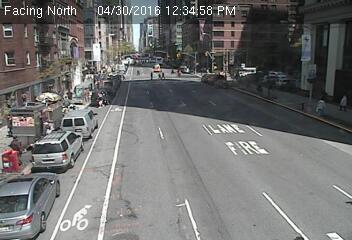neg: (119, 105, 152, 149), (85, 85, 111, 120), (222, 97, 243, 124), (170, 28, 187, 51), (216, 49, 231, 69), (269, 55, 282, 72), (125, 37, 137, 54), (234, 10, 246, 25)
pos: (2, 132, 28, 167), (313, 95, 329, 117), (338, 93, 351, 112), (175, 67, 184, 79), (160, 69, 168, 80), (154, 71, 162, 81)
